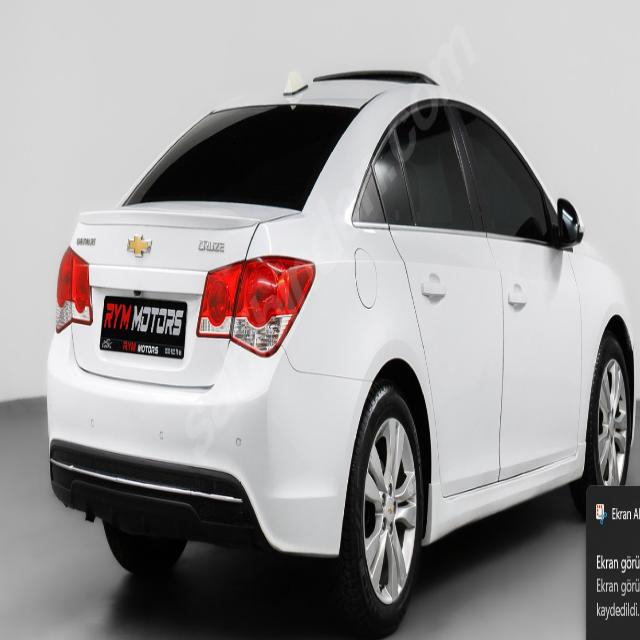chevrolet: (125, 228, 154, 261)
